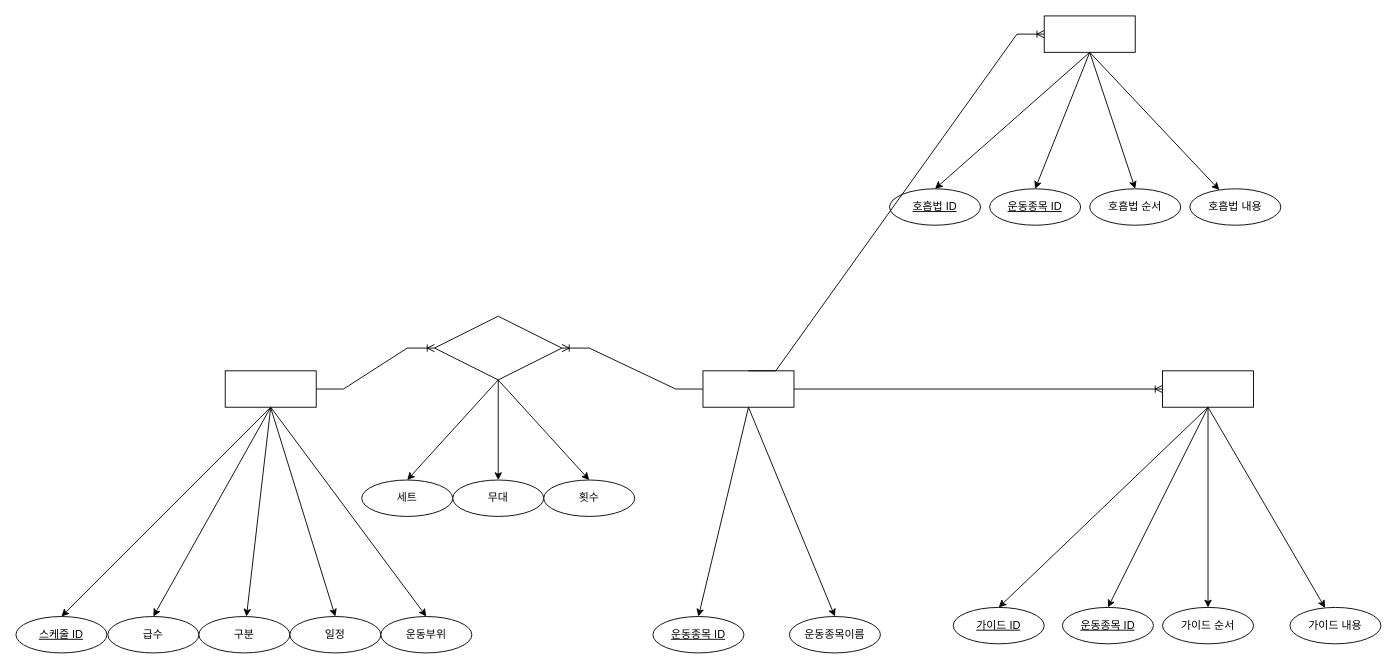
Some shapes in this 1397 by 669 pixel diagram are drawn without their labels. Here are the shapes that lost their labels. From the top down, the centre of each, then its label:
At (x=1089, y=33): "호흡법".
At (x=498, y=347): "스케줄별 운동종목".
At (x=270, y=388): "운동스케줄".
At (x=748, y=388): "운동종목".
At (x=1208, y=388): "운동가이드".
